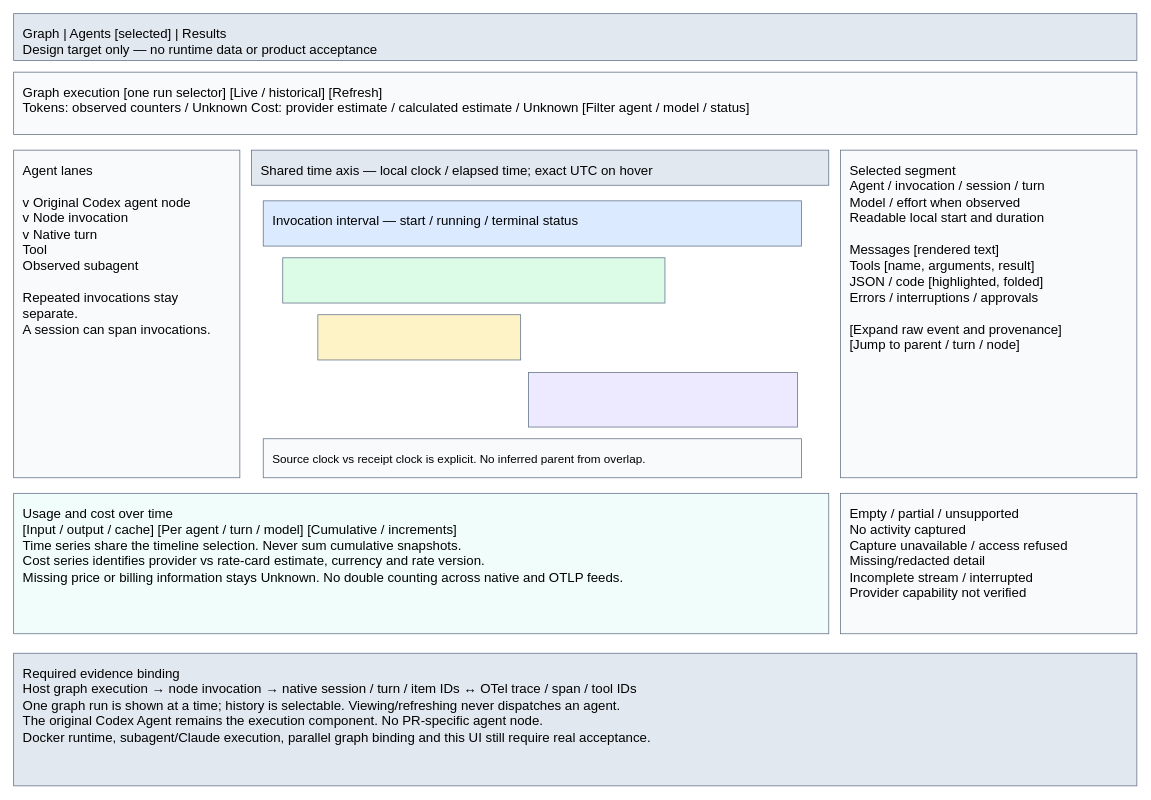
This 1151x800 diagram has some shape labels left out. The centre of each missing label's shape, as x and y in pixels:
Observed child interval — explicit parent identity only: point (663, 399)
Tool interval — arguments / output / exit: point (419, 337)
Turn interval — request / model / usage / messages: point (473, 280)
